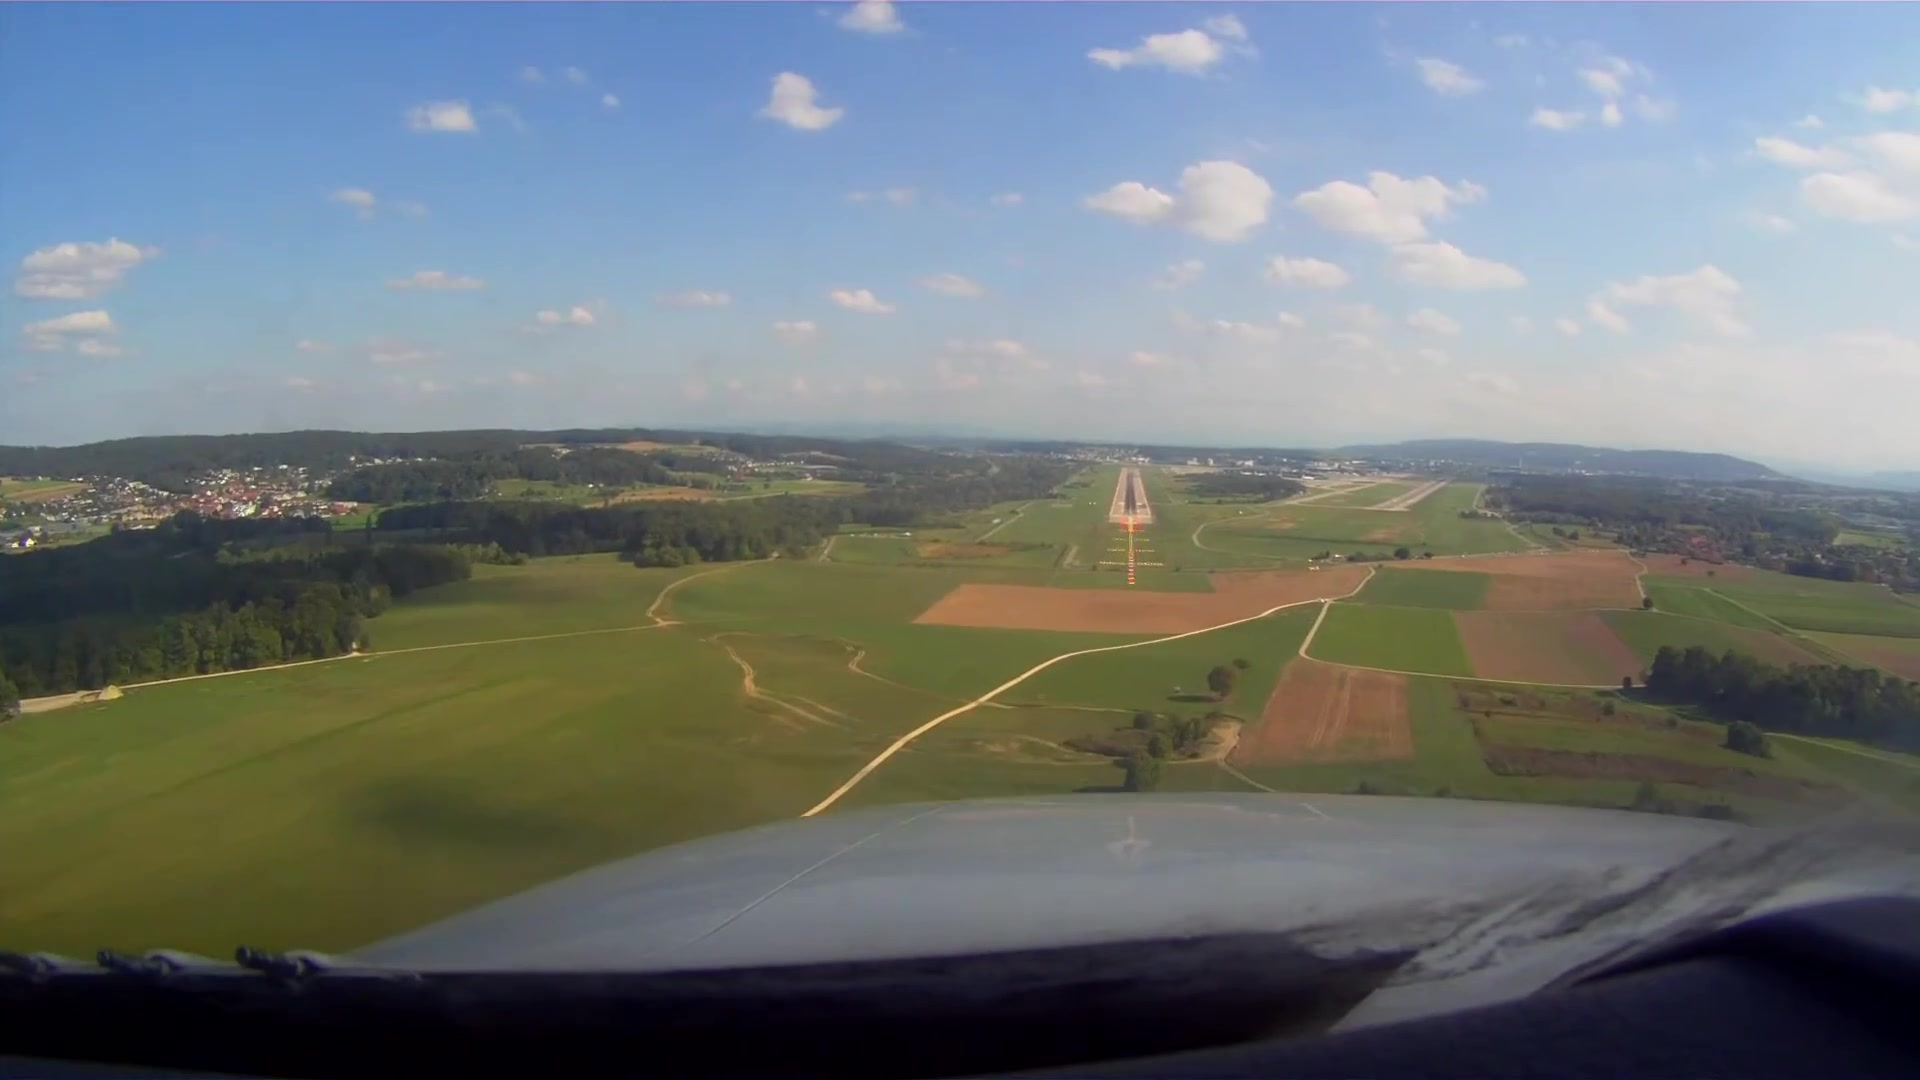runway: (1373, 476, 1451, 510), (1113, 464, 1151, 521)
